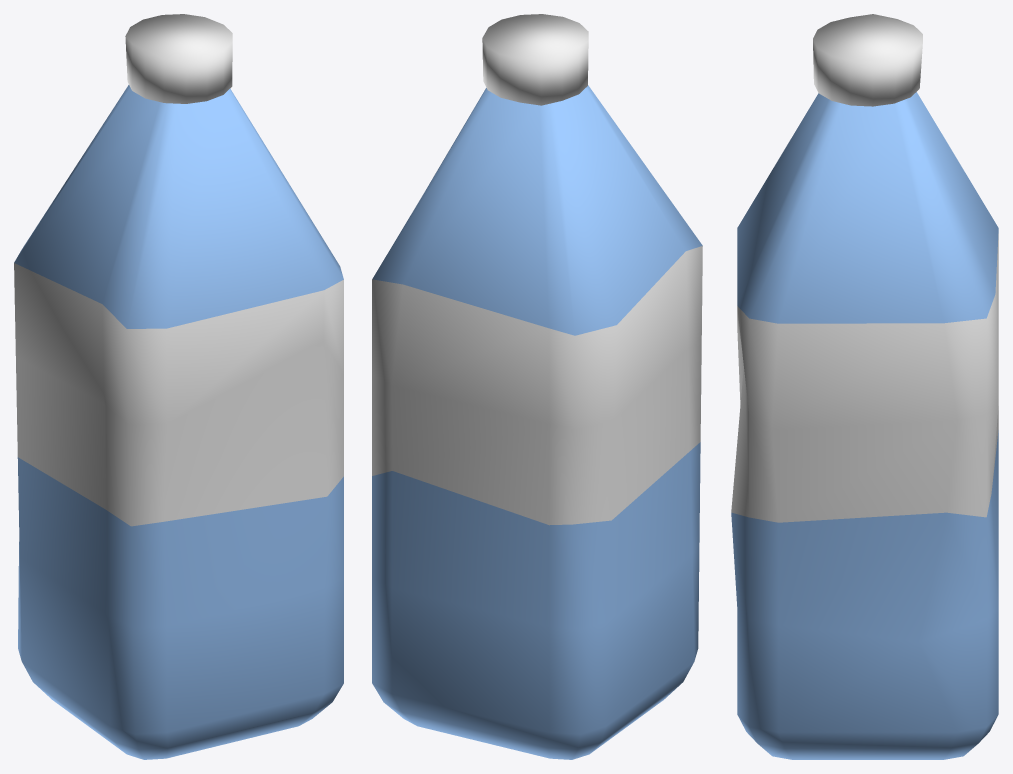
File: Bottle.glb
The picture shows the model from 3 angles, left to right: view 1: azimuth 30°, elevation 25°; view 2: azimuth 150°, elevation 25°; view 3: azimuth 270°, elevation 25°; orthographic projection.
Parts seen in each view (by area): view 1: Plane.001; view 2: Plane.001; view 3: Plane.001.
Part boxes in pixels (x1,y1,x2,y2): Plane.001: (14, 14, 343, 759); Plane.001: (372, 14, 702, 759); Plane.001: (731, 14, 998, 759).
Bounding box in the file's own units: 0.0804 × 0.2153 × 0.077.
